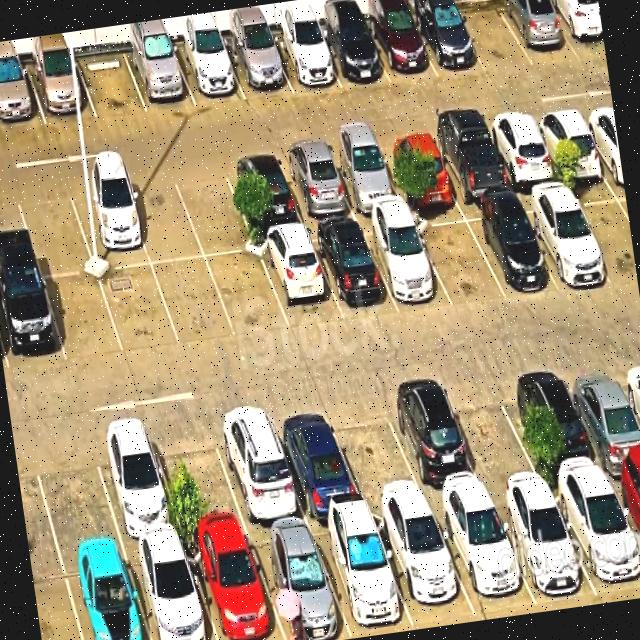empty: (443, 372, 545, 494), (149, 417, 247, 538), (325, 392, 427, 508), (29, 429, 122, 555), (411, 210, 506, 306), (172, 161, 256, 257), (123, 171, 204, 264), (15, 183, 95, 277), (99, 265, 181, 355), (153, 258, 236, 346), (44, 273, 124, 363), (568, 182, 638, 284), (207, 252, 290, 337), (452, 1, 533, 74), (76, 50, 148, 118)
occupied: (309, 513, 415, 639), (381, 381, 489, 504), (490, 488, 598, 606), (431, 496, 537, 616), (372, 507, 477, 626), (246, 524, 352, 640), (209, 403, 307, 528), (267, 401, 365, 519), (89, 422, 183, 545), (549, 476, 640, 603), (512, 363, 607, 484), (184, 531, 285, 640), (516, 188, 613, 287), (125, 539, 217, 640), (562, 358, 640, 475), (462, 201, 556, 297), (256, 229, 344, 331), (308, 222, 398, 320), (360, 216, 453, 309), (61, 547, 150, 640), (67, 177, 151, 271), (428, 124, 513, 202), (223, 154, 305, 234), (0, 275, 66, 372), (276, 147, 356, 224), (324, 140, 405, 215), (377, 132, 459, 205), (483, 114, 562, 189), (531, 107, 609, 180), (495, 0, 580, 65), (364, 10, 438, 84), (409, 6, 486, 77), (315, 20, 390, 88), (26, 56, 97, 125), (172, 41, 246, 107), (124, 45, 196, 112), (268, 29, 342, 93), (224, 36, 293, 99), (546, 0, 606, 58), (0, 63, 46, 131), (607, 469, 640, 549)
